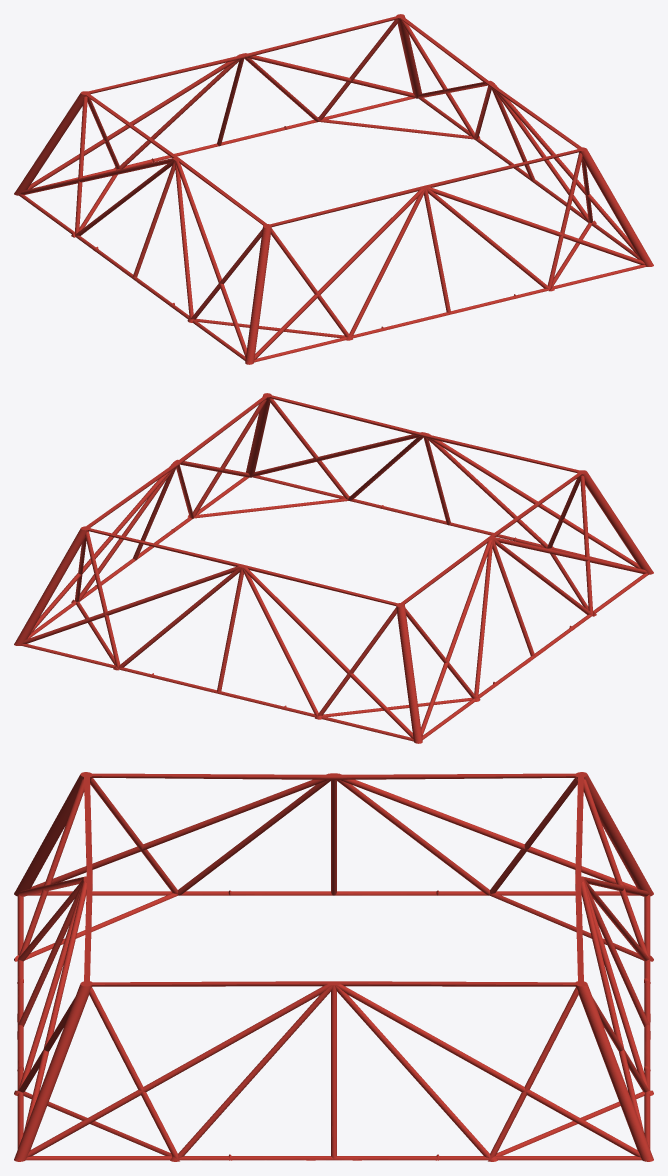
3 views of the same model, one above another, from view 1: azimuth 30°, elevation 25°; view 2: azimuth 150°, elevation 25°; view 3: azimuth 270°, elevation 25° (orthographic). The views are drawn at different scales.
Visible parts, largest first — view 1: H3-H4; view 2: H3-H4; view 3: H3-H4.
Part boxes in pixels (<box>): H3-H4: <box>14,14,653,364</box>; H3-H4: <box>14,393,653,743</box>; H3-H4: <box>14,772,653,1161</box>.
Size of the model in its own units: 53.1 by 13.5 by 53.1.
